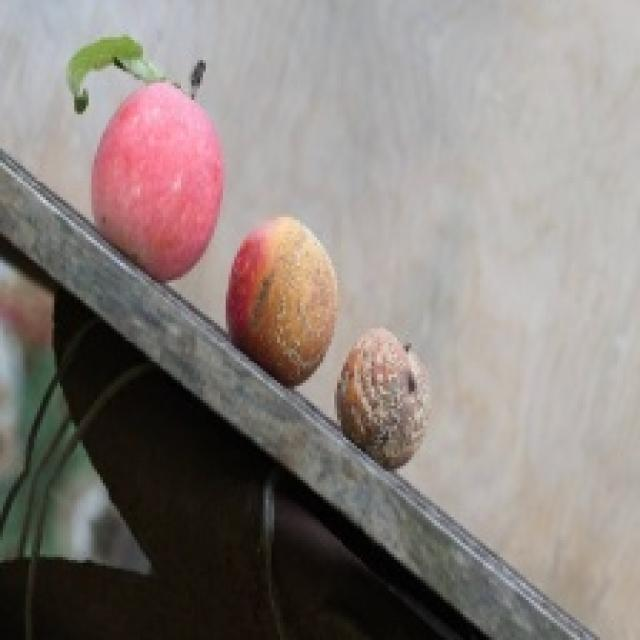100-_ripeness: (92, 80, 224, 288)
rotten_apple: (234, 217, 331, 384), (343, 329, 428, 464)
